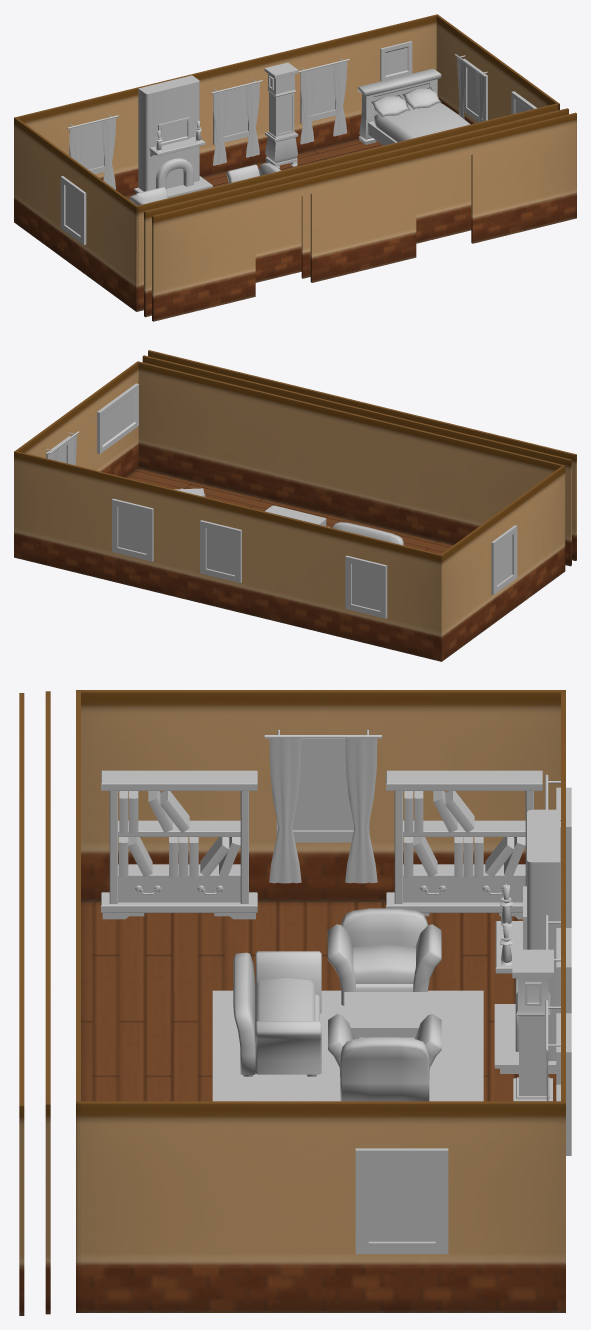
File: Room_02_F.FBX
3 renders of one model, top to bottom at view 1: azimuth 30°, elevation 25°; view 2: azimuth 150°, elevation 25°; view 3: azimuth 270°, elevation 25°, orthographic. The views are drawn at different scales.
Visible parts, largest first — view 1: Wall_Door_02_single, Room2_wall1, Room2_wall2, Room2_wall3, FirePlace_004, Bed004, Room2_wall4, Wall_Door_02_double, Windown007, Windown006, Clock_007, Windown002 (+7 smaller); view 2: Room2_wall2, Room2_wall1, Room2_wall3, Room2_wall4, Wall_Door_02_double, Wall_Door_02_single, Room2_floor, Windown002, Windown006, Windown007, Picture_005, Windown008 (+3 smaller); view 3: Room2_wall4, Room2_wall3, Room2_floor, Bookcase_007, Bookcase_006, Windown008, Carpet_004, Sofa_006, Windown011, FirePlace_004, Sofa_01a001, Sofa_01a005 (+9 smaller).
Part boxes in pixels (x1,y1,x2,y2): Wall_Door_02_single: [152, 112, 576, 321]; Room2_wall1: [14, 14, 438, 222]; Room2_wall2: [135, 103, 559, 311]; Room2_wall3: [14, 117, 138, 311]; FirePlace_004: [134, 75, 212, 198]; Bed004: [358, 68, 470, 145]; Room2_wall4: [436, 14, 559, 124]; Wall_Door_02_double: [144, 108, 568, 317]; Windown007: [298, 58, 349, 144]; Windown006: [211, 79, 262, 165]; Clock_007: [264, 62, 298, 168]; Windown002: [67, 114, 118, 189]; Room2_wall2: [137, 361, 565, 571]; Room2_wall1: [14, 451, 442, 661]; Room2_wall3: [439, 466, 565, 661]; Room2_wall4: [14, 361, 138, 556]; Wall_Door_02_double: [142, 355, 571, 566]; Wall_Door_02_single: [148, 350, 576, 560]; Room2_floor: [126, 468, 452, 554]; Windown002: [345, 555, 387, 618]; Windown006: [200, 520, 241, 583]; Windown007: [112, 498, 153, 561]; Picture_005: [97, 383, 138, 453]; Windown008: [491, 525, 517, 595]; Room2_wall4: [76, 1101, 565, 1312]; Room2_wall3: [81, 690, 562, 901]; Room2_floor: [81, 902, 556, 1101]; Bookcase_007: [101, 770, 257, 919]; Bookcase_006: [386, 770, 542, 919]; Windown008: [264, 729, 381, 883]; Carpet_004: [212, 990, 483, 1101]; Sofa_006: [233, 951, 321, 1076]; Windown011: [355, 1148, 448, 1254]; FirePlace_004: [494, 809, 560, 1073]; Sofa_01a001: [327, 908, 441, 1005]; Sofa_01a005: [328, 1014, 441, 1101].
Bounding box in the file's own units: 392 × 91.85 × 218.
